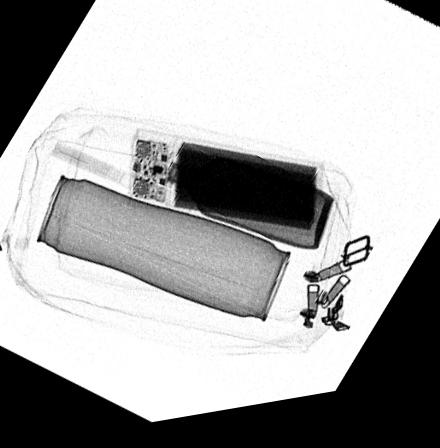Powerbank: (126, 131, 325, 244)
